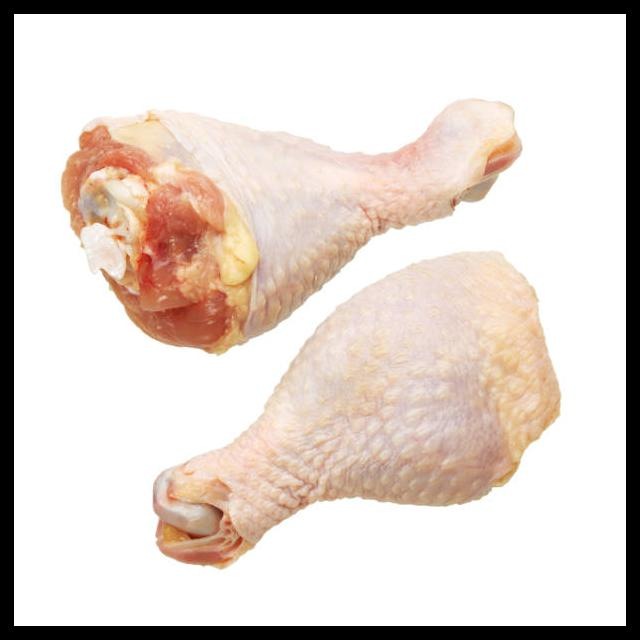chicken: (143, 244, 561, 570), (59, 92, 523, 355)
